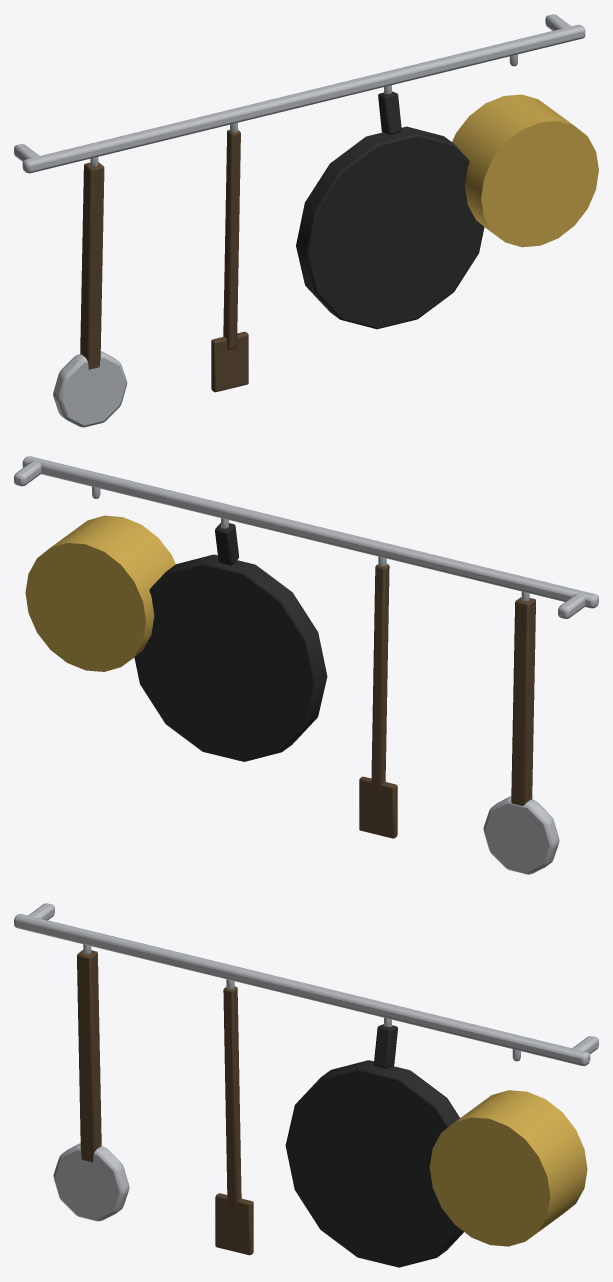
File: ThanhTreoDungCu_Bep.glb
3 renders of one model, top to bottom at view 1: azimuth 30°, elevation 25°; view 2: azimuth 150°, elevation 25°; view 3: azimuth 330°, elevation 25°, orthographic. The views are drawn at different scales.
Visible parts, largest first — view 1: ThanhTreoDungCu_Bep; view 2: ThanhTreoDungCu_Bep; view 3: ThanhTreoDungCu_Bep.
Part boxes in pixels (<box>): ThanhTreoDungCu_Bep: <box>14,14,598,427</box>; ThanhTreoDungCu_Bep: <box>14,456,598,874</box>; ThanhTreoDungCu_Bep: <box>14,903,598,1267</box>.
Size of the model in its own units: 0.8 by 0.3856 by 0.115.
